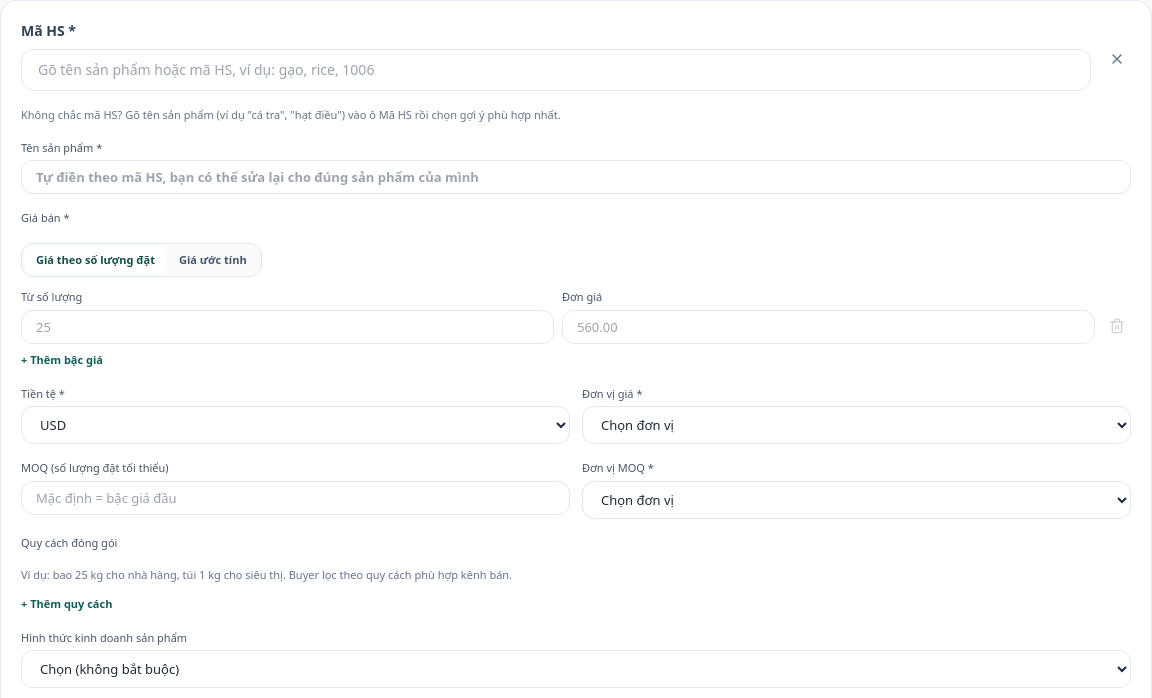
Test: ProductsEditor › chọn mã HS khi ô tên còn trống: tên tự điền bằng tên mã HS
The image size is (1152, 698).
Type "gao" into the dropdown labelled "Mã HS *".
click(556, 70); type("gao")  # box [21, 49, 1091, 91]
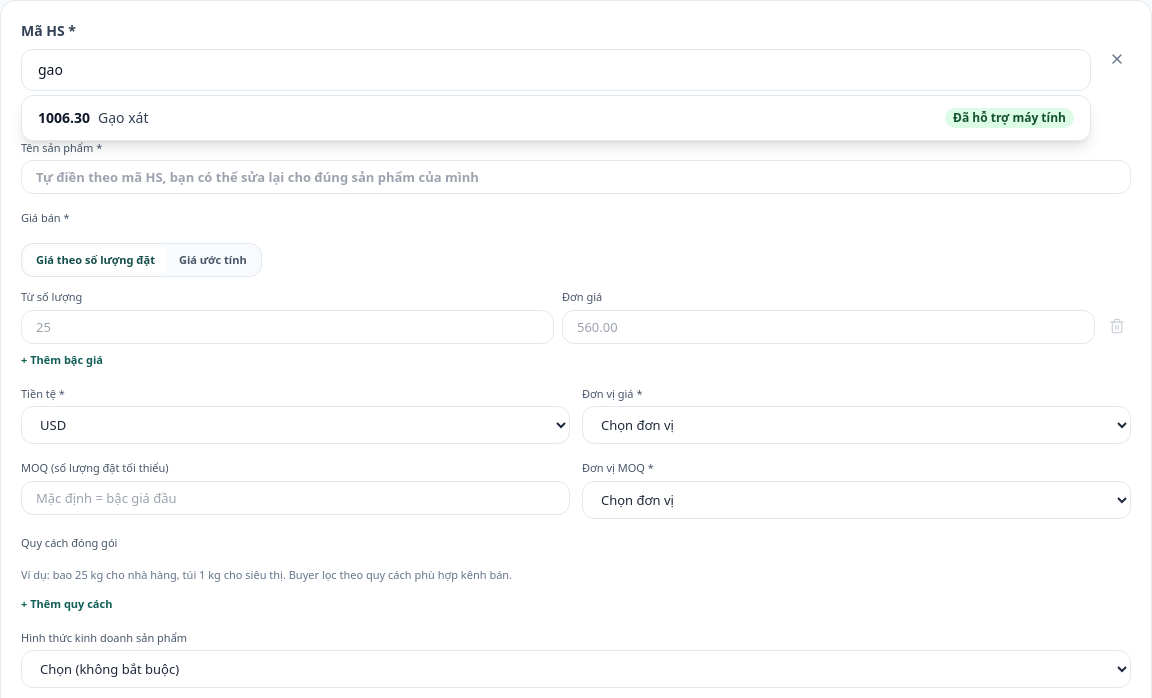
Click the option "1006.30Gạo xát Đã hỗ trợ máy tính".
click(64, 118)  # box [38, 108, 1074, 128]
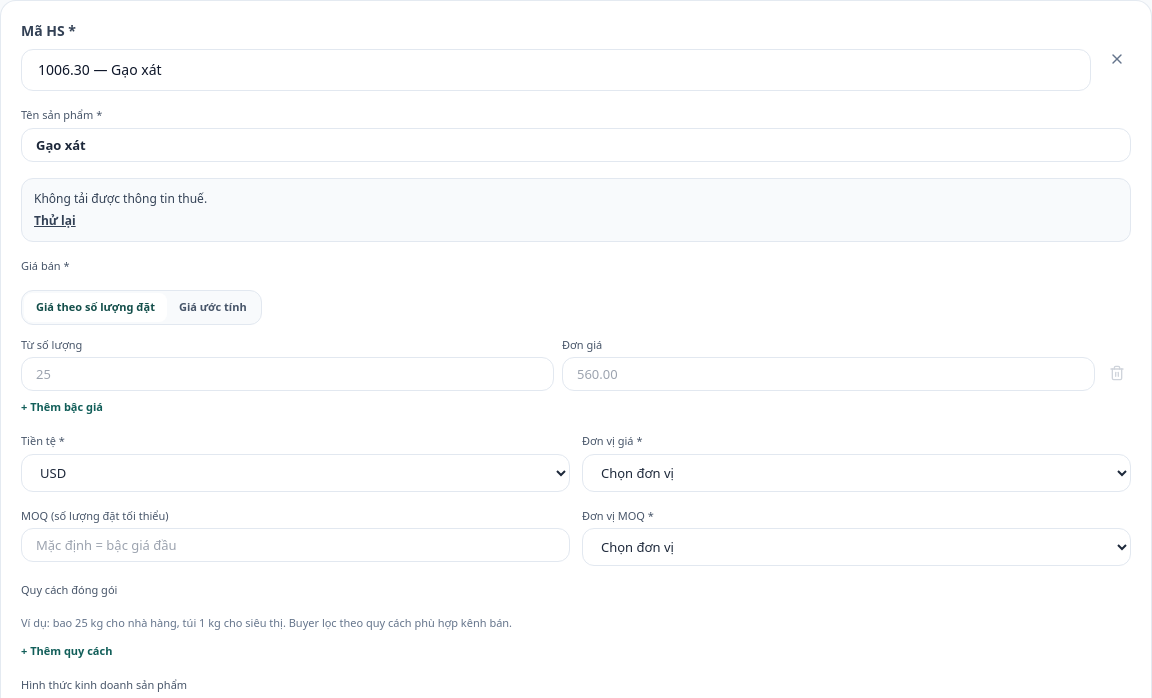
Result: the field labelled "Tên sản phẩm *" holds "Gạo xát" at [21, 128, 1131, 162]
